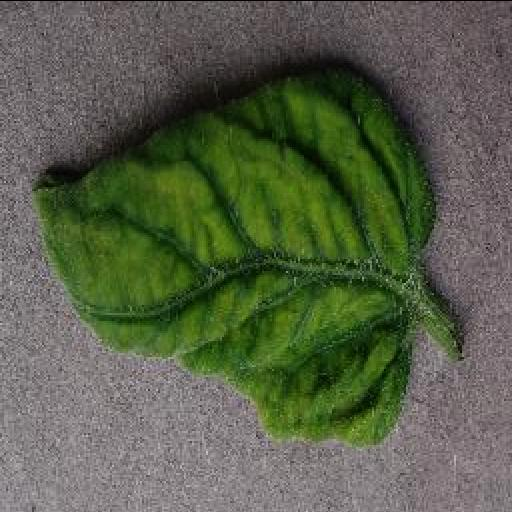disease_tomato: (36, 64, 440, 448)
